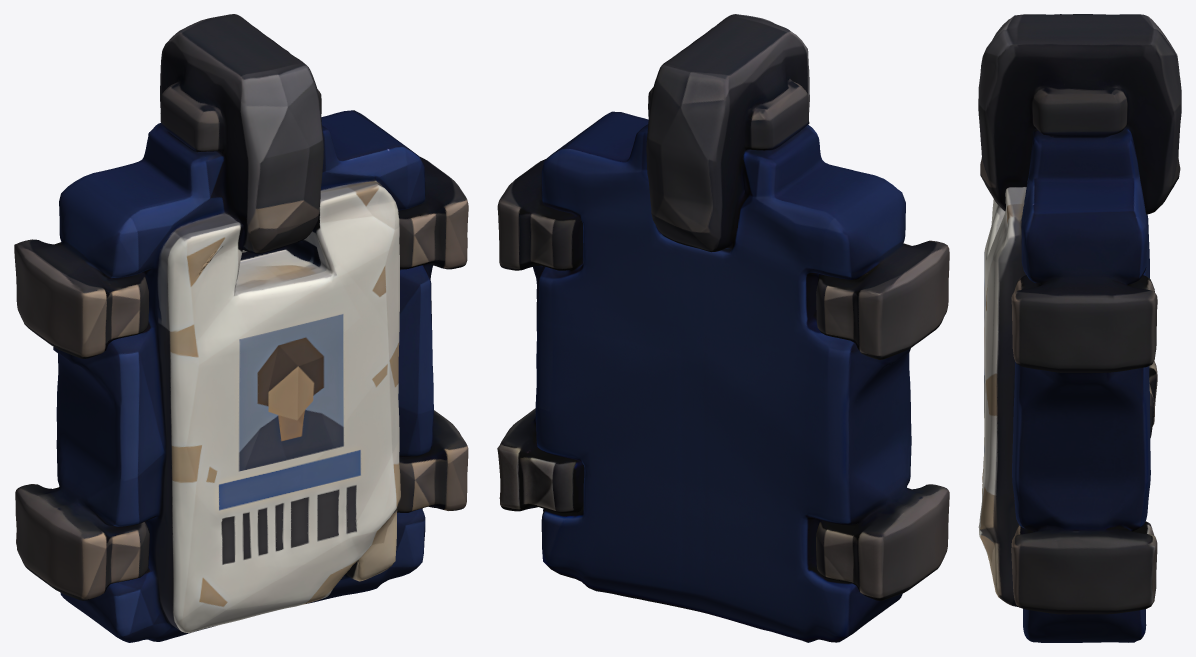
File: tripo_convert_96562466-451e-4b0c-98da-b120123fee71.fbx
3 views of the same model, side by side, from view 1: azimuth 30°, elevation 25°; view 2: azimuth 150°, elevation 25°; view 3: azimuth 270°, elevation 25° (orthographic).
Visible parts, largest first — view 1: tripo_node_96562466; view 2: tripo_node_96562466; view 3: tripo_node_96562466.
Boxes of the visible parts, x1,y1,x2,y2 form: tripo_node_96562466: (14,14,468,642); tripo_node_96562466: (497,14,949,642); tripo_node_96562466: (978,14,1181,642).
Size of the model in its own units: 75.31 by 32.53 by 97.91.
1 material, 1 textured.
